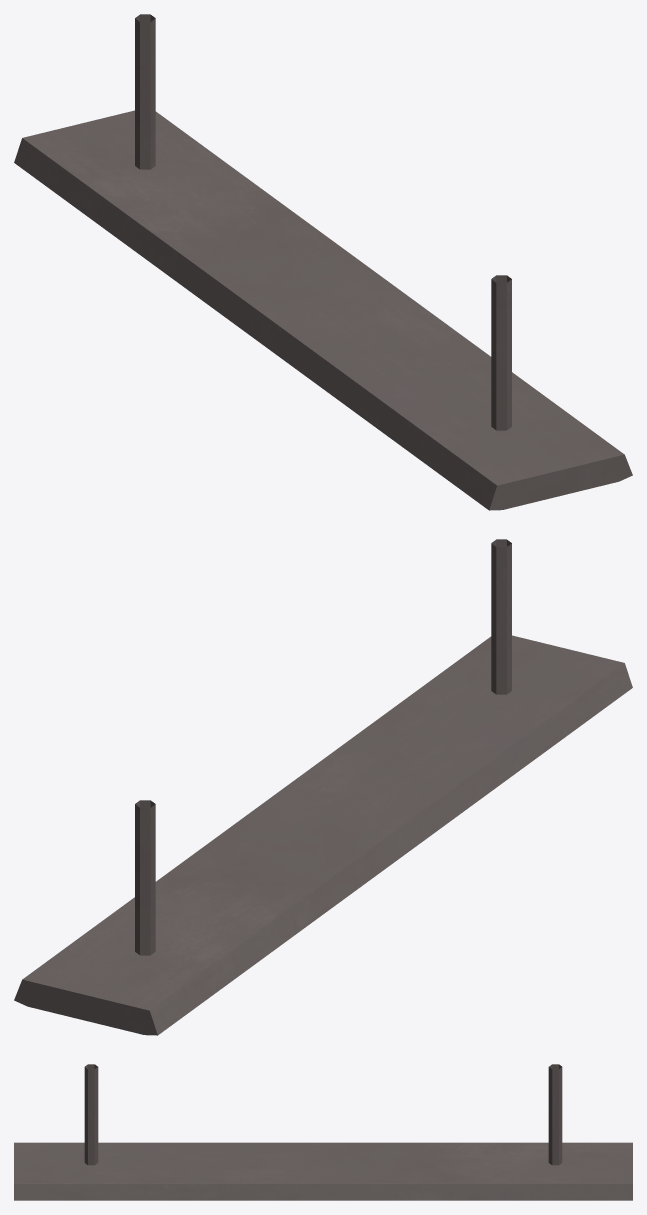
Rendered from IndoorLight.fbx.
The picture shows the model from 3 angles, top to bottom: view 1: azimuth 30°, elevation 25°; view 2: azimuth 150°, elevation 25°; view 3: azimuth 270°, elevation 25°; orthographic projection. The views are drawn at different scales.
Visible parts, largest first — view 1: Indoorlight_Baked; view 2: Indoorlight_Baked; view 3: Indoorlight_Baked.
Boxes of the visible parts, <box> form: Indoorlight_Baked: <box>14,14,632,510</box>; Indoorlight_Baked: <box>14,539,632,1035</box>; Indoorlight_Baked: <box>14,1064,632,1200</box>.
Bounding box in the file's own units: 39.81 × 45.81 × 228.
Materials: 1 (1 with a texture image).
